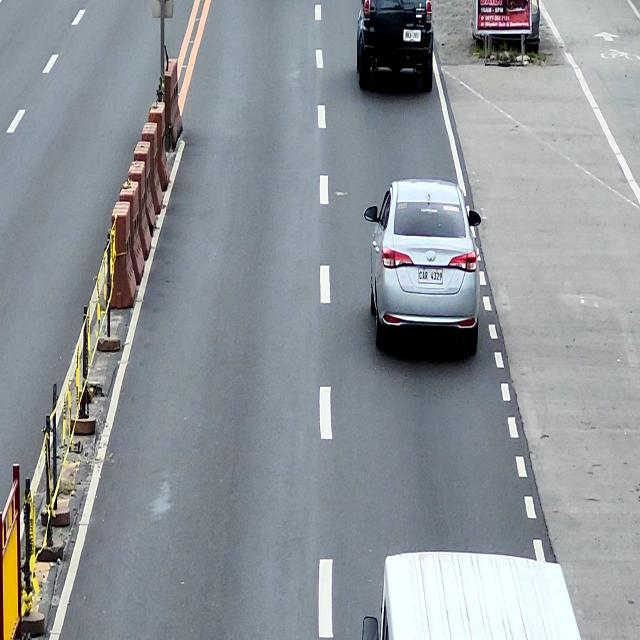Car: (364, 177, 483, 358), (361, 551, 580, 640), (356, 0, 434, 92)
License-Plate: (418, 268, 444, 284), (404, 31, 421, 42)
